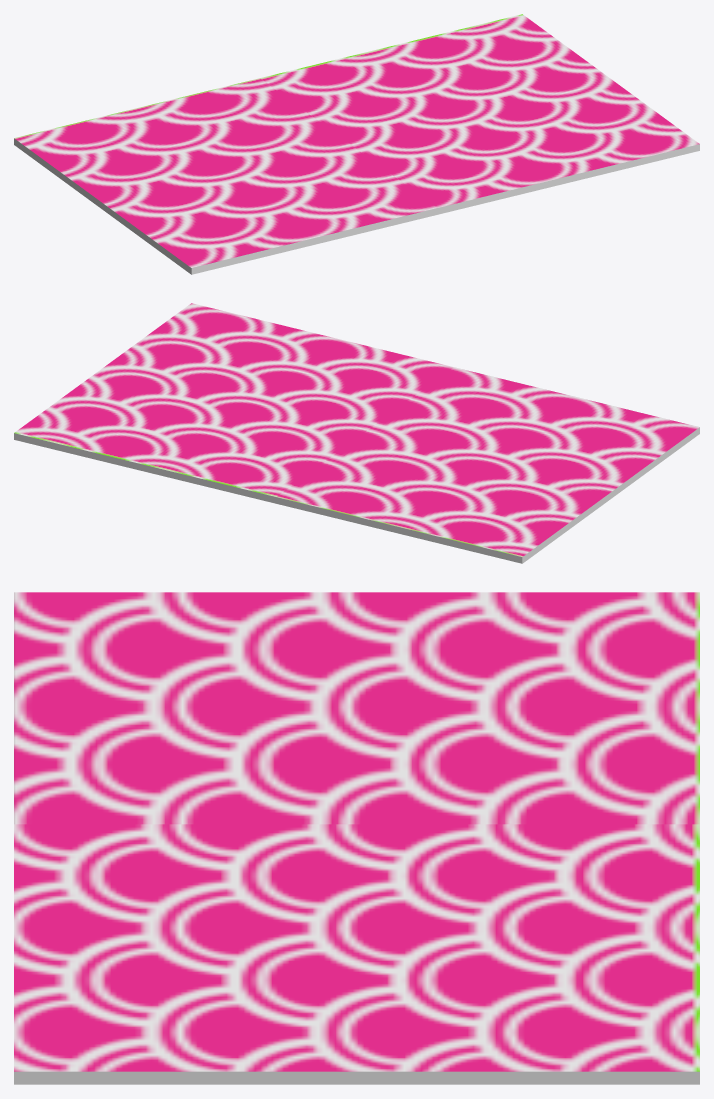
The picture shows the model from 3 angles, top to bottom: view 1: azimuth 30°, elevation 25°; view 2: azimuth 150°, elevation 25°; view 3: azimuth 270°, elevation 25°; orthographic projection. The views are drawn at different scales.
Visible parts, largest first — view 1: Mat_B; view 2: Mat_B; view 3: Mat_B.
Part boxes in pixels (<box>): Mat_B: <box>14,14,699,274</box>; Mat_B: <box>14,303,699,563</box>; Mat_B: <box>14,592,699,1084</box>.
Size of the model in its own units: 268 by 3.38 by 162.
